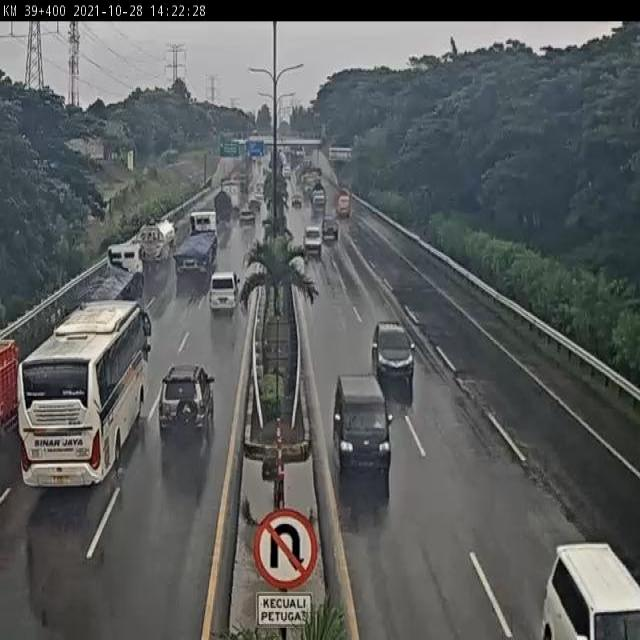Bus: (10, 294, 148, 507)
Car: (526, 534, 640, 640), (327, 372, 393, 478), (155, 367, 215, 438), (374, 309, 414, 388), (299, 214, 323, 257), (323, 212, 342, 241)
Truck: (89, 232, 144, 304), (177, 205, 218, 288), (138, 192, 174, 268)
Van: (206, 266, 241, 320)
